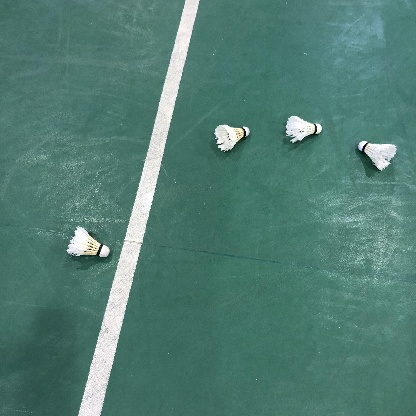ball_single: (66, 226, 110, 257), (358, 141, 397, 171), (214, 124, 250, 152), (285, 116, 322, 143)
